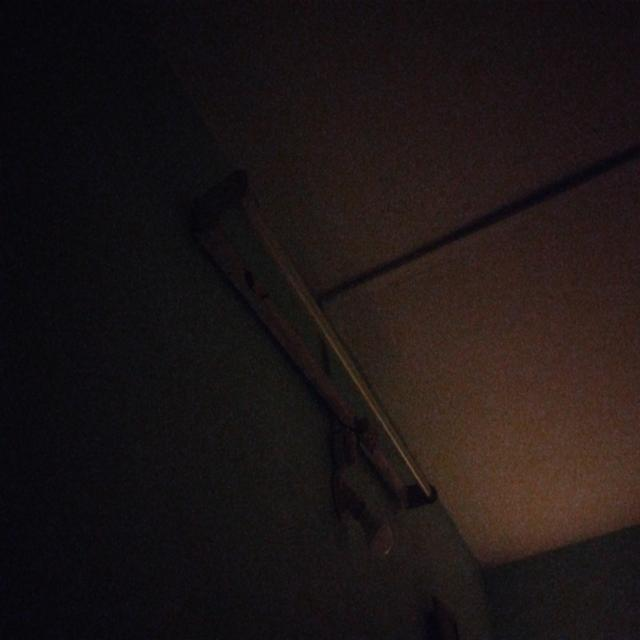tubelight_off: (181, 163, 442, 518)
